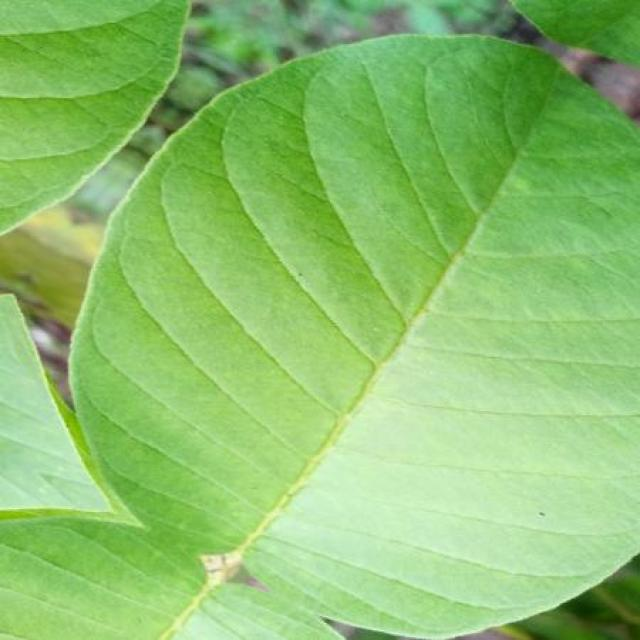Disease Free: (0, 36, 640, 639)
